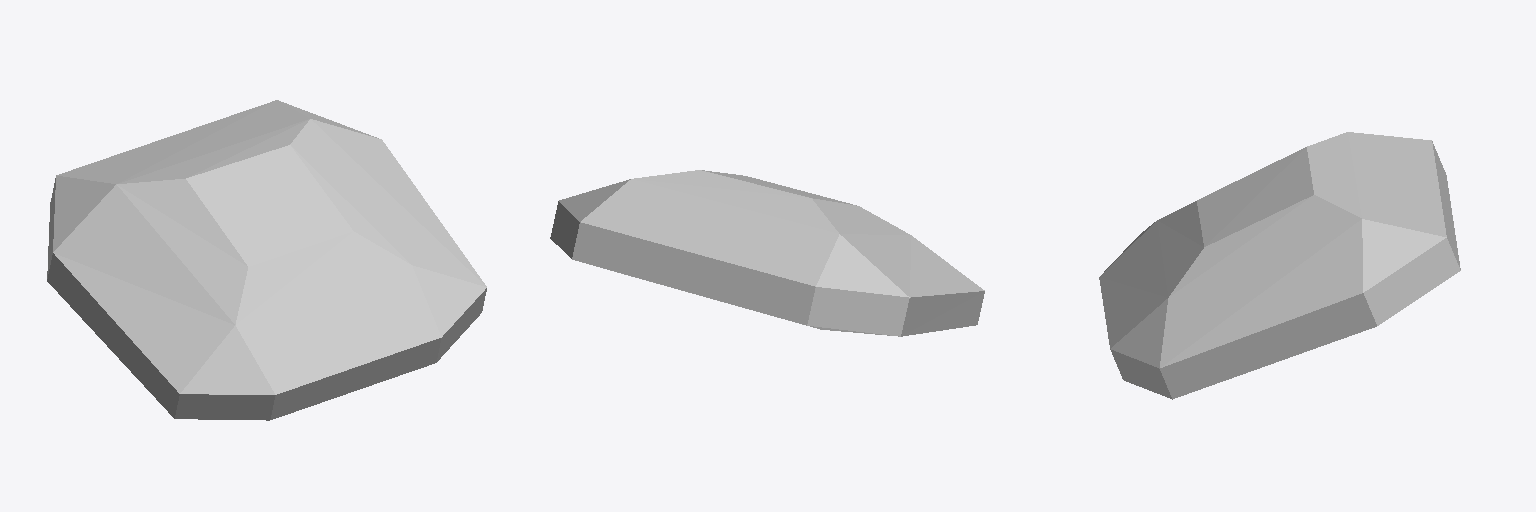
File: kussen moment.obj
3 renders of one model, left to right at view 1: azimuth 30°, elevation 25°; view 2: azimuth 150°, elevation 25°; view 3: azimuth 270°, elevation 25°, orthographic.
Parts seen in each view (by area): view 1: kussen_Cube.011; view 2: kussen_Cube.011; view 3: kussen_Cube.011.
Part boxes in pixels (left/top/right/bottom): kussen_Cube.011: left=47, top=100, right=486, bottom=420; kussen_Cube.011: left=550, top=170, right=984, bottom=336; kussen_Cube.011: left=1099, top=132, right=1460, bottom=399.
Bounding box in the file's own units: 0.8839 × 0.4222 × 0.8031.